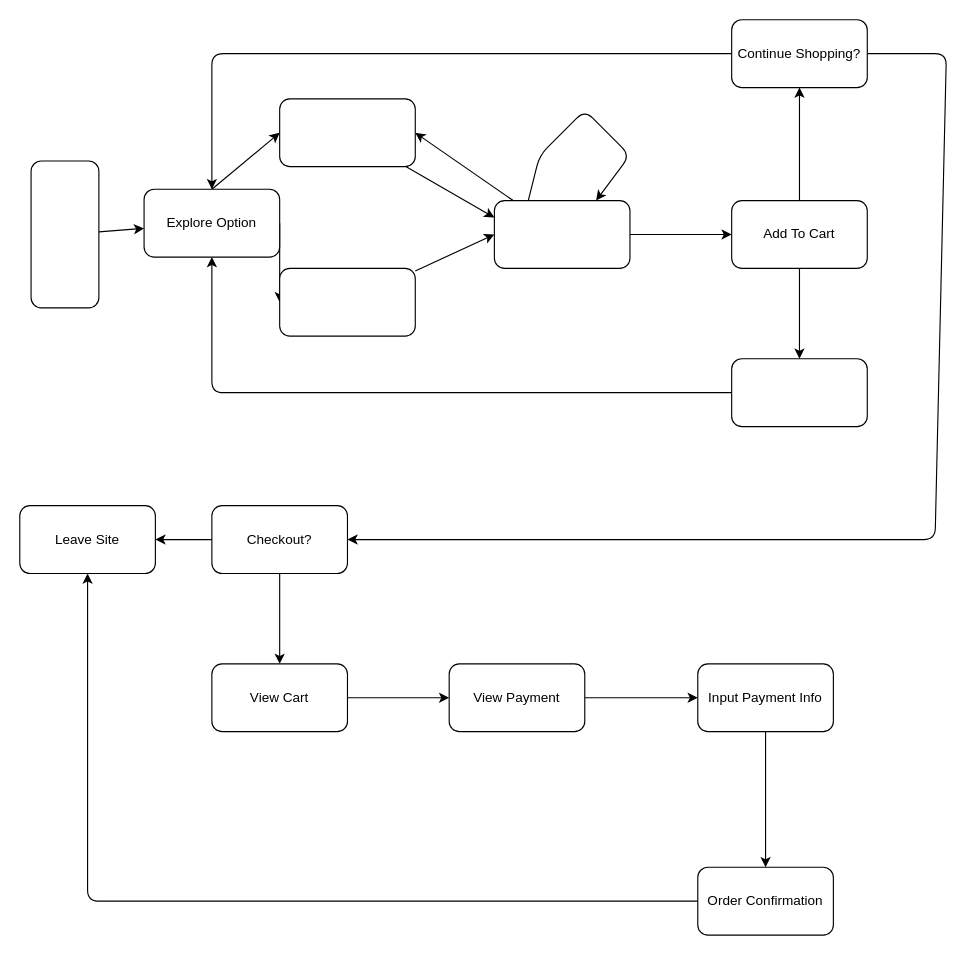
The diagram is 975 pixels wide and 955 high, and some of its shapes have lost their labels. The centre of each missing label's shape, as x and y in pixels:
Add to Cart Confirmation: the point at 799,392
Explore Home Page: the point at 347,301
Home Page: the point at 64,234
Search Product: the point at 347,132
View Product: the point at 561,233
